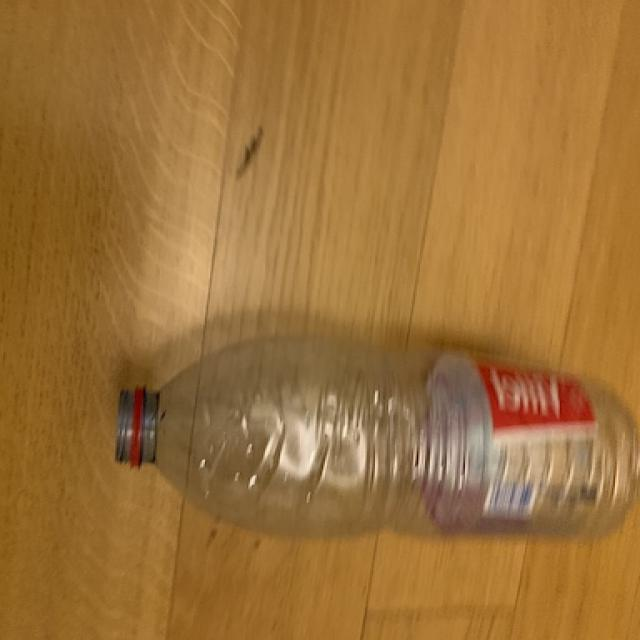plastic_bottle: (114, 335, 634, 540)
